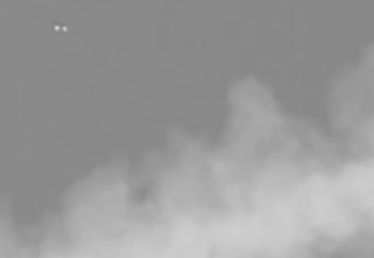Target: (55, 27, 67, 31)
